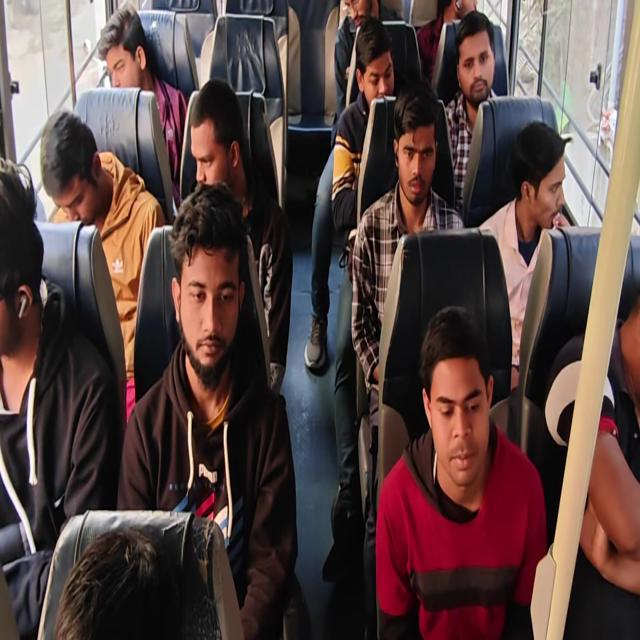person: (40, 525, 222, 640), (412, 291, 500, 487), (166, 178, 248, 374), (31, 100, 115, 259), (4, 150, 54, 366), (506, 119, 570, 236), (187, 78, 248, 190), (93, 4, 153, 107), (393, 86, 438, 207), (601, 279, 640, 414), (357, 16, 403, 116), (453, 12, 500, 99), (436, 0, 483, 30), (344, 0, 374, 27)
